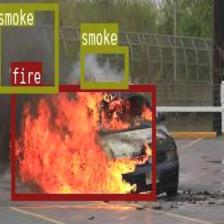fire: (11, 85, 155, 199)
smoke: (0, 2, 58, 91), (80, 46, 128, 87)
